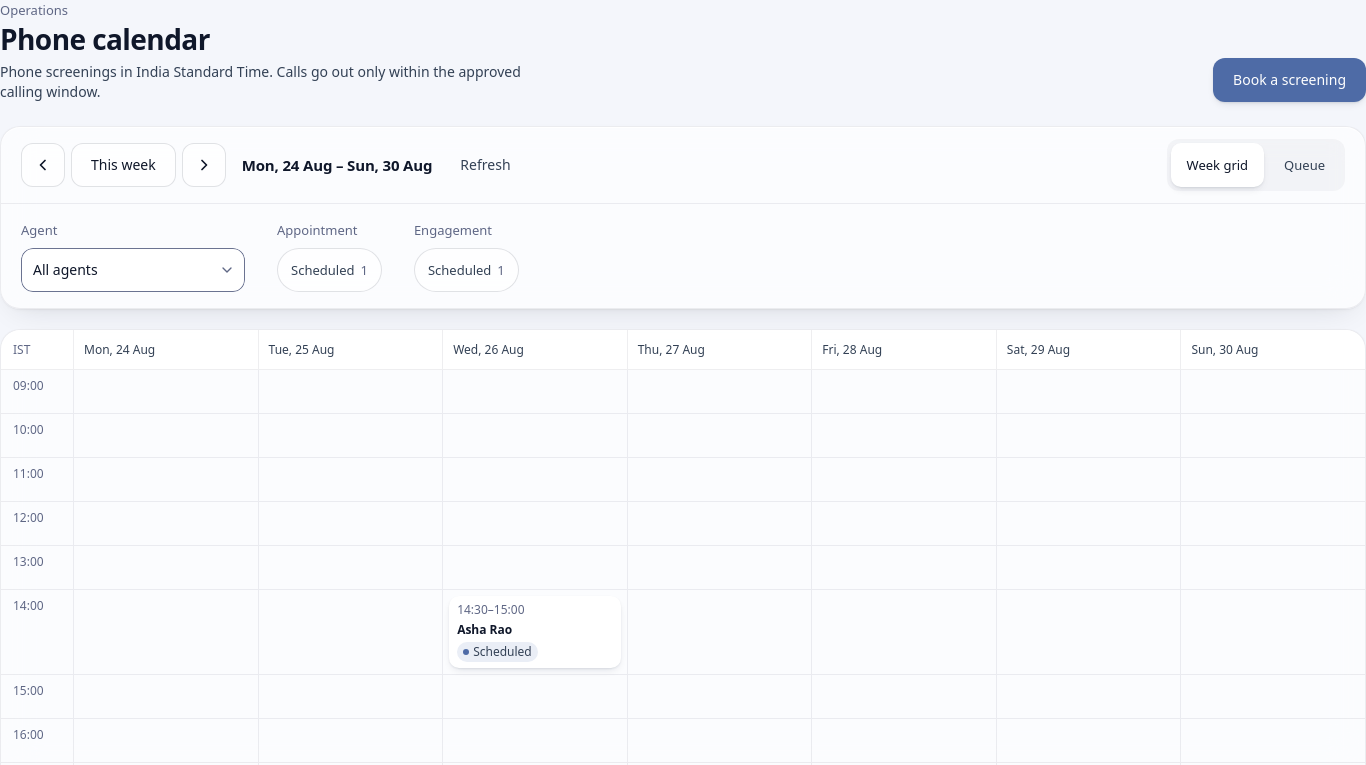
Test: booking › re-reads the calendar after a success rather than patching it locally
The width and height of the screenshot is (1366, 765).
Click the button "Book a screening" at (1290, 80), box 1213,58 -> 1365,102
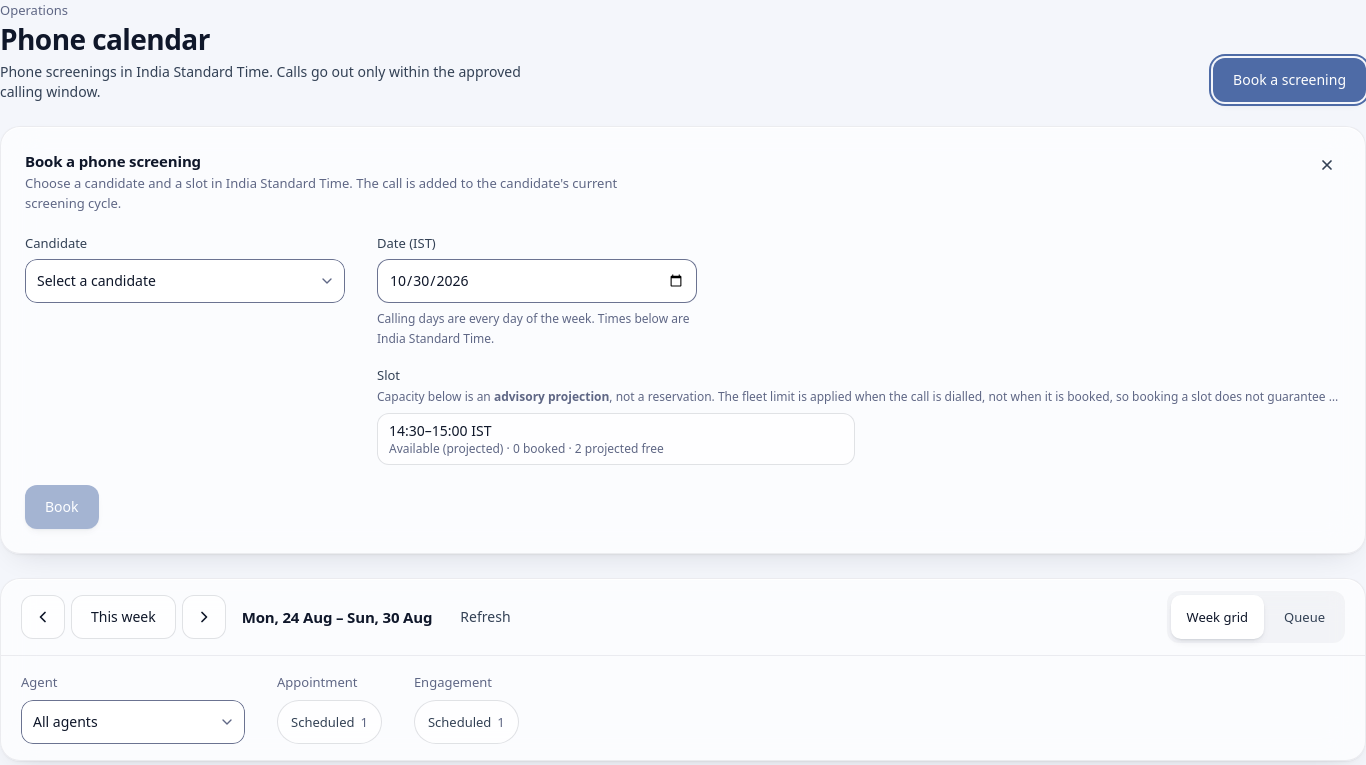
Result: the dropdown labelled "Candidate" is shown
Select "Asha Rao · Screening" in the dropdown labelled "Candidate" at (185, 281), box 25,259 -> 345,303
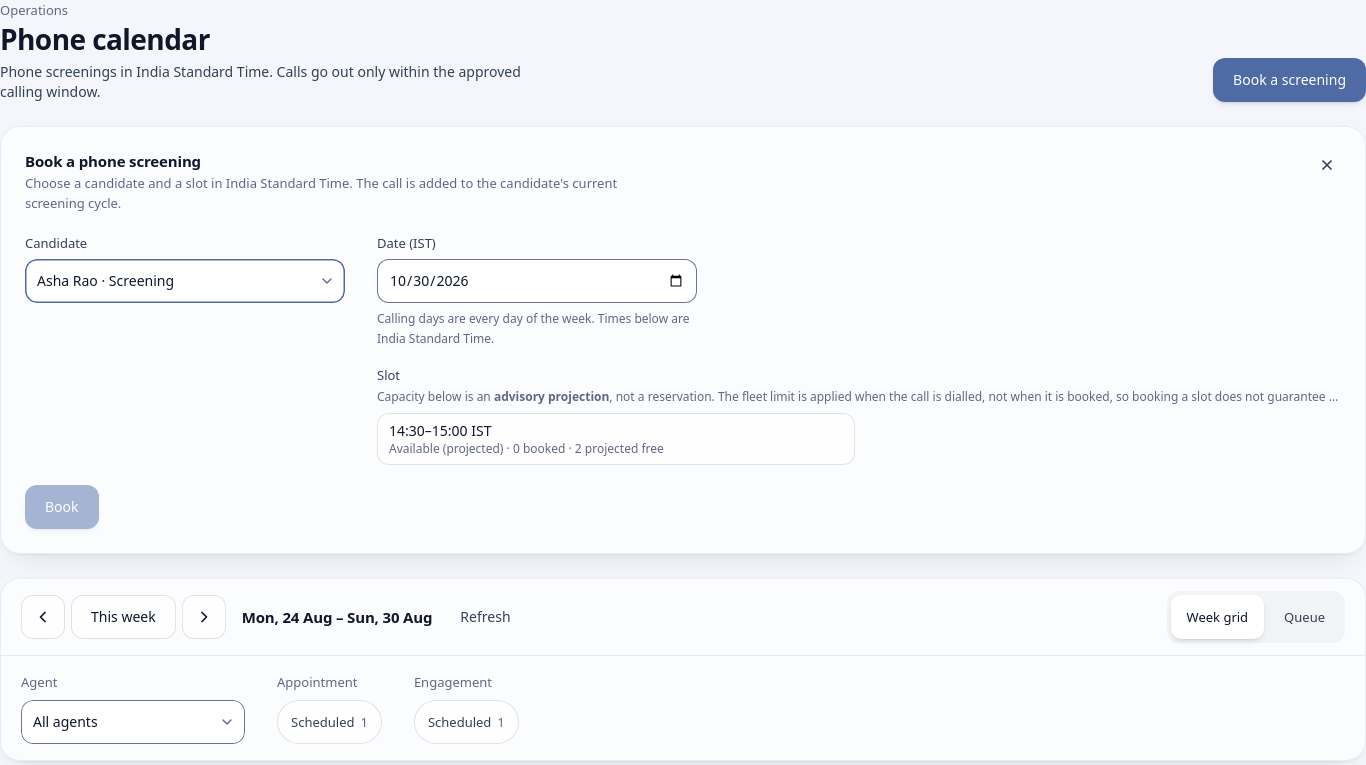
Click the radio button at (616, 439), box 377,413 -> 855,465
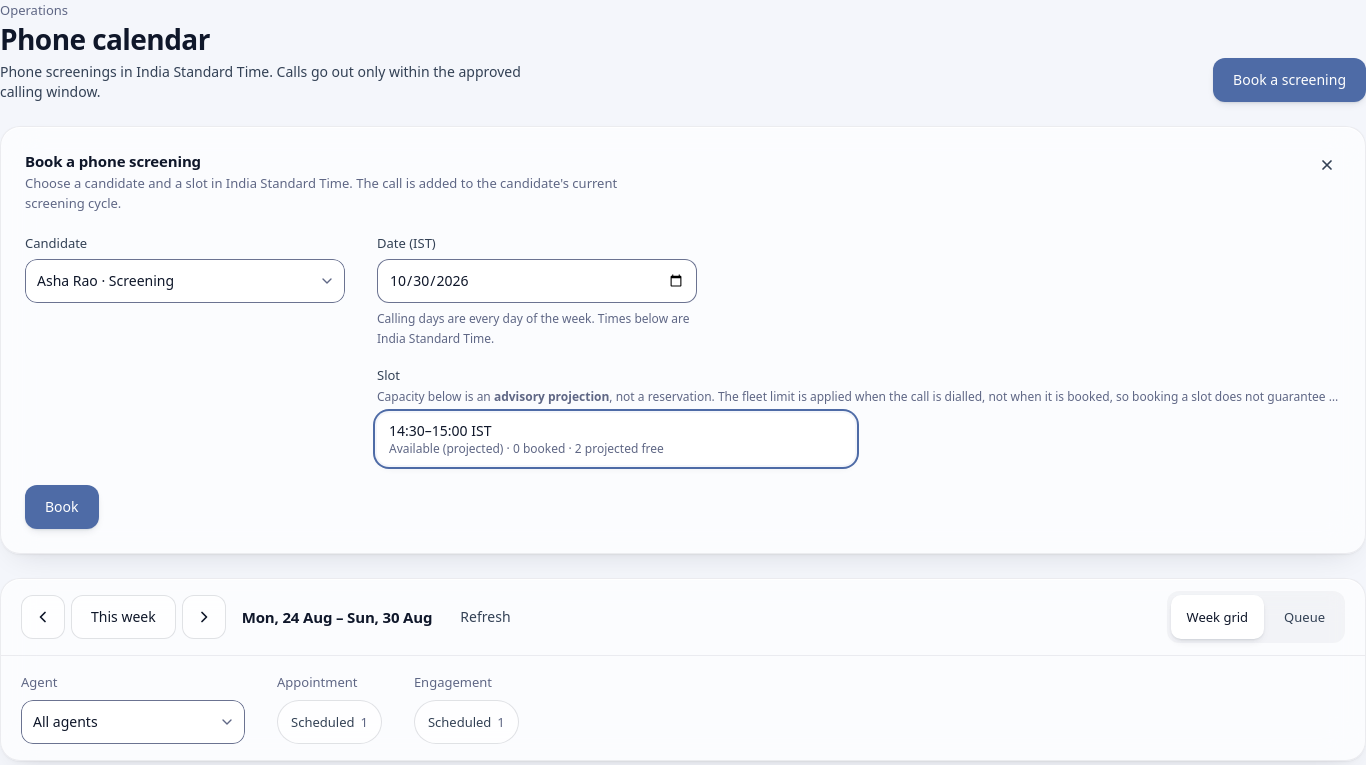
Click the button "Book" at (62, 507), box 25,485 -> 98,529
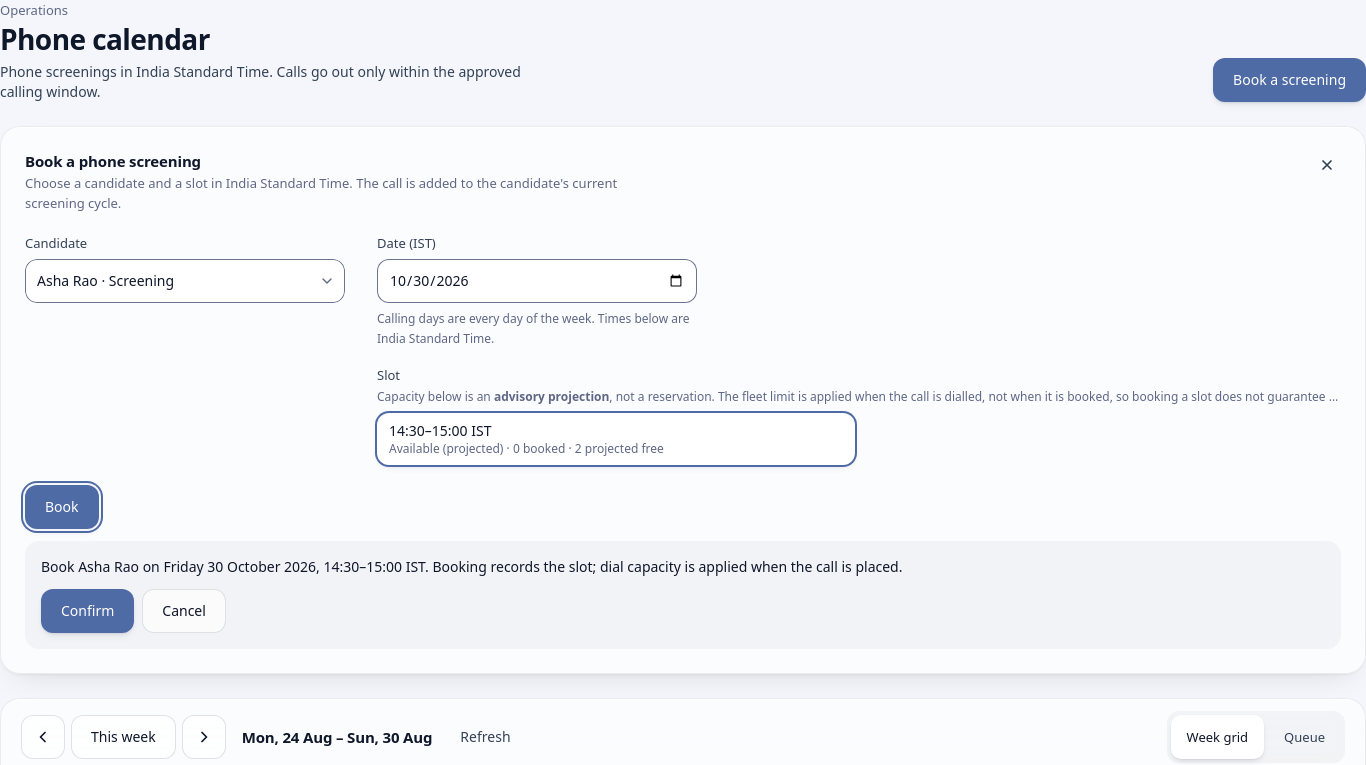
Click the button "Confirm" at (88, 611), box 41,589 -> 134,633
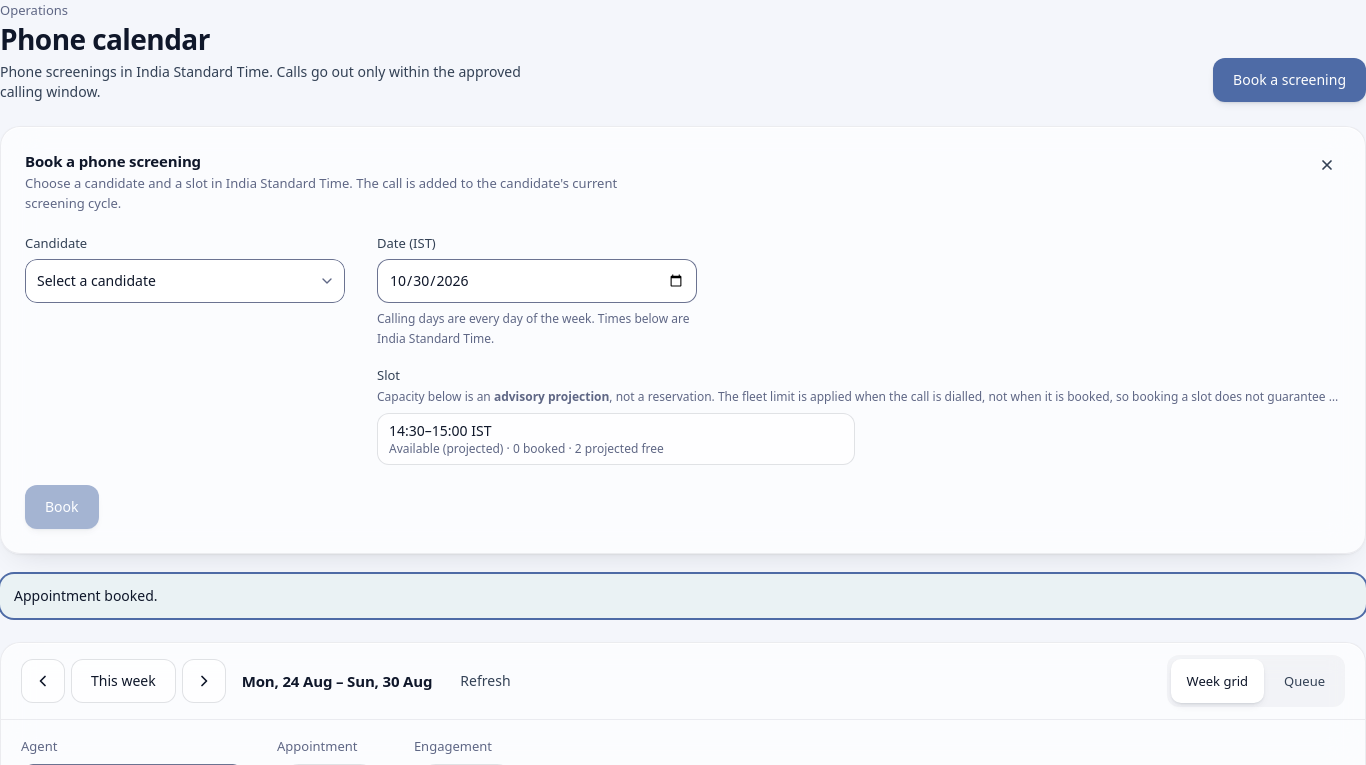
Result: the message reads "Appointment booked." at 14,586 -> 158,605
